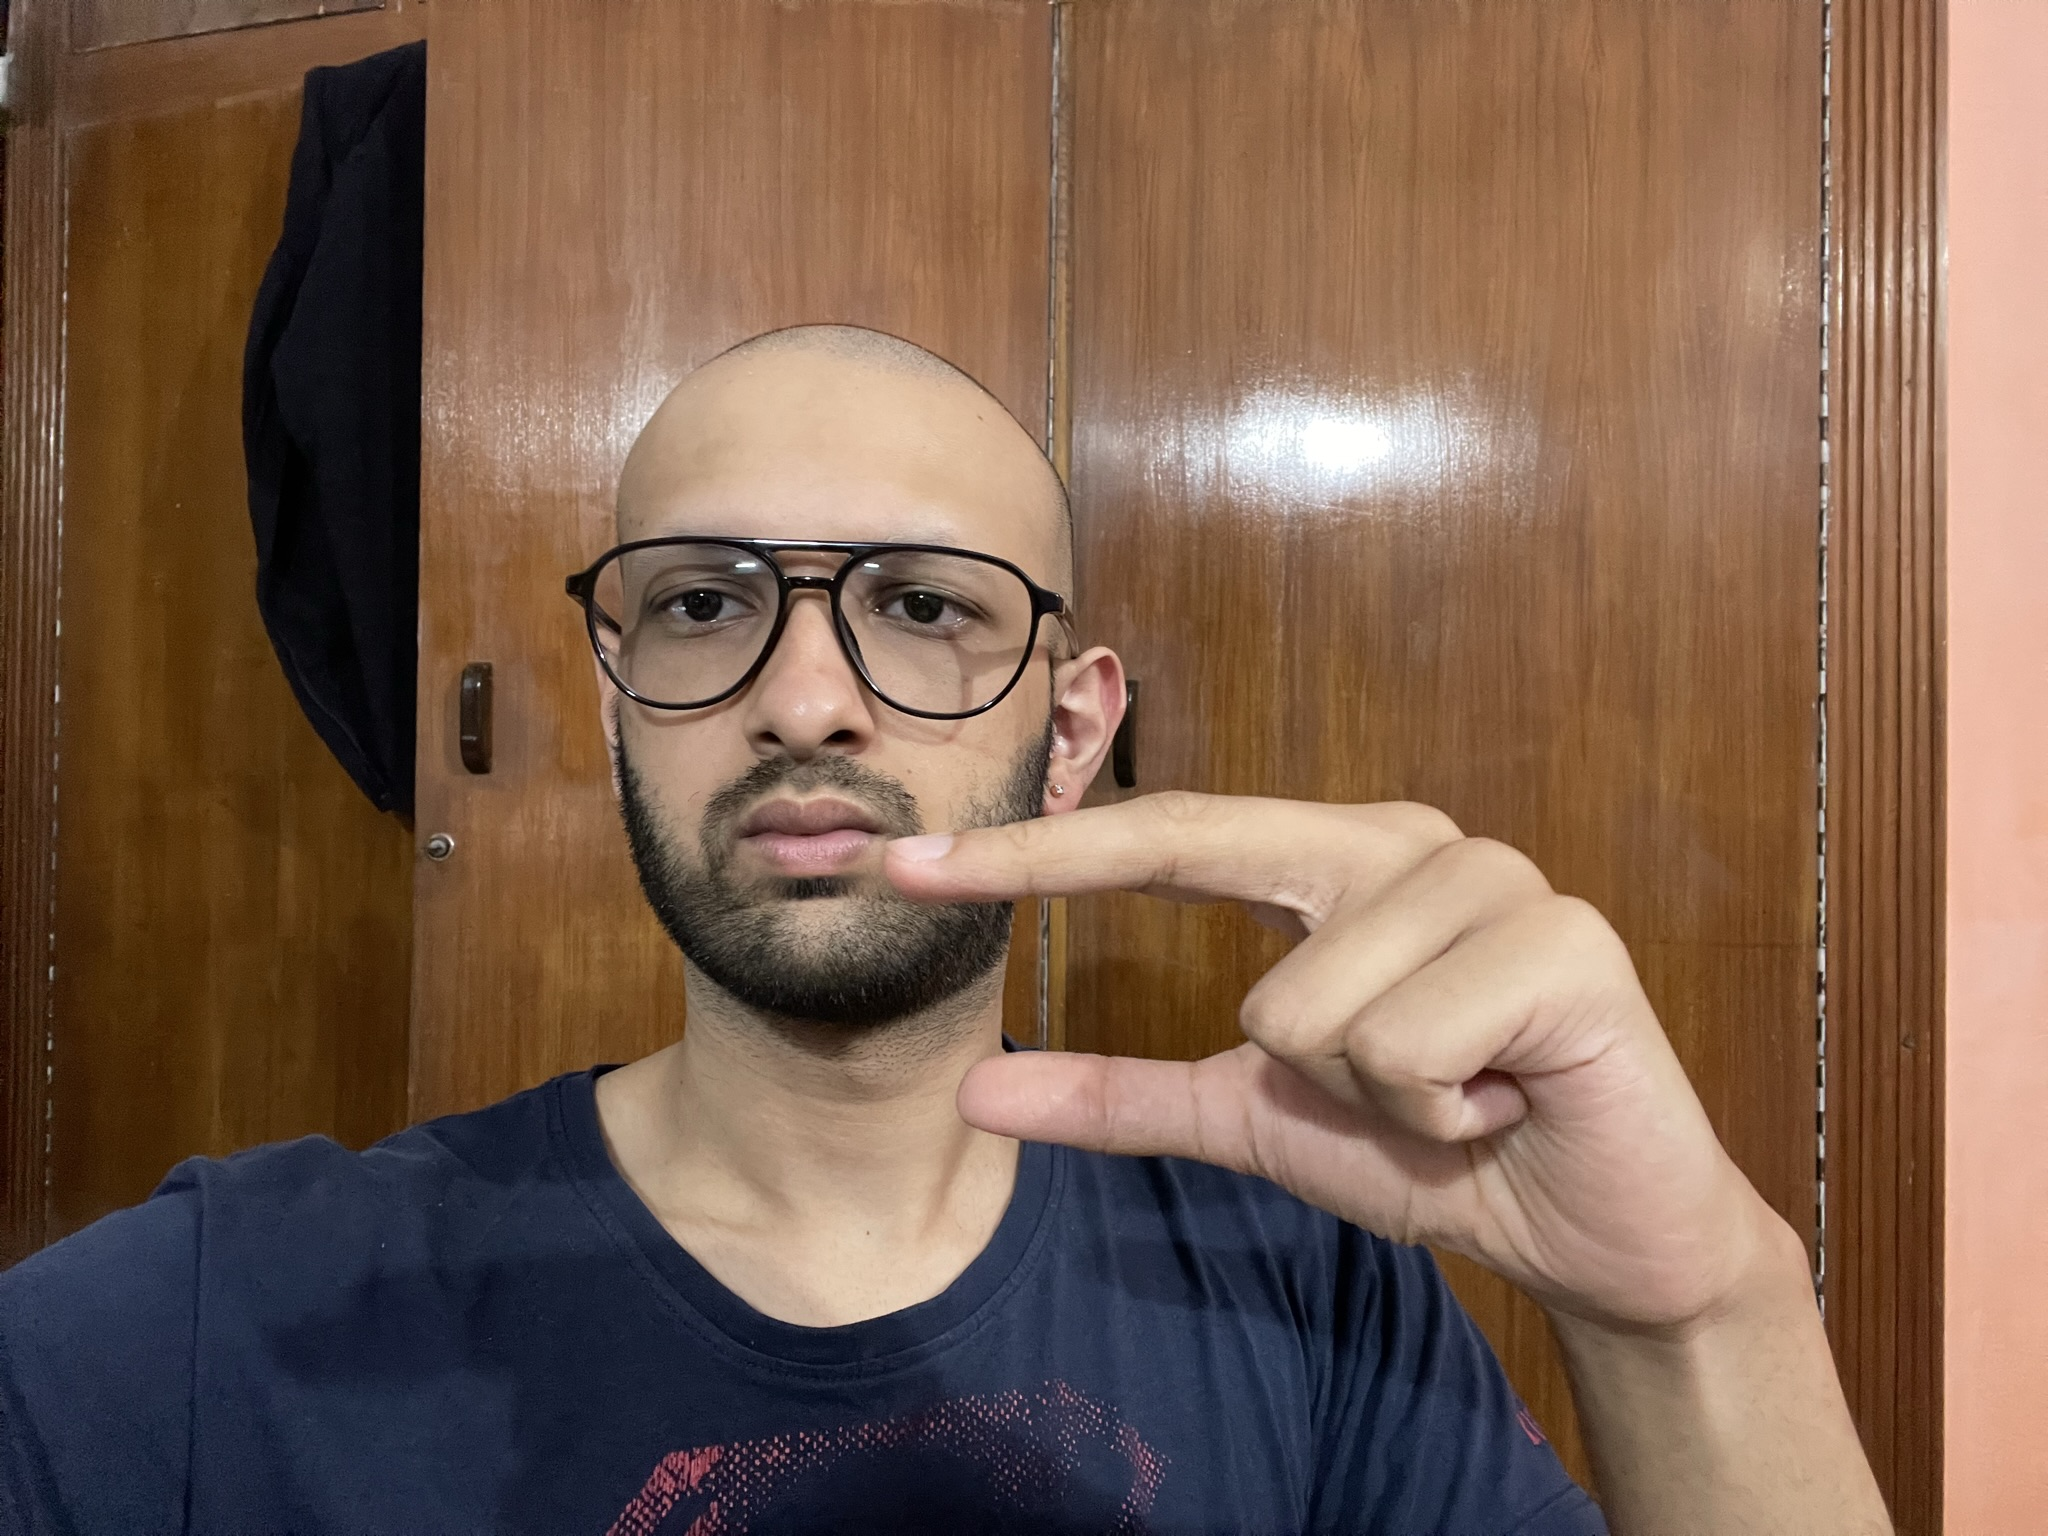No: (884, 779, 1801, 1334)
